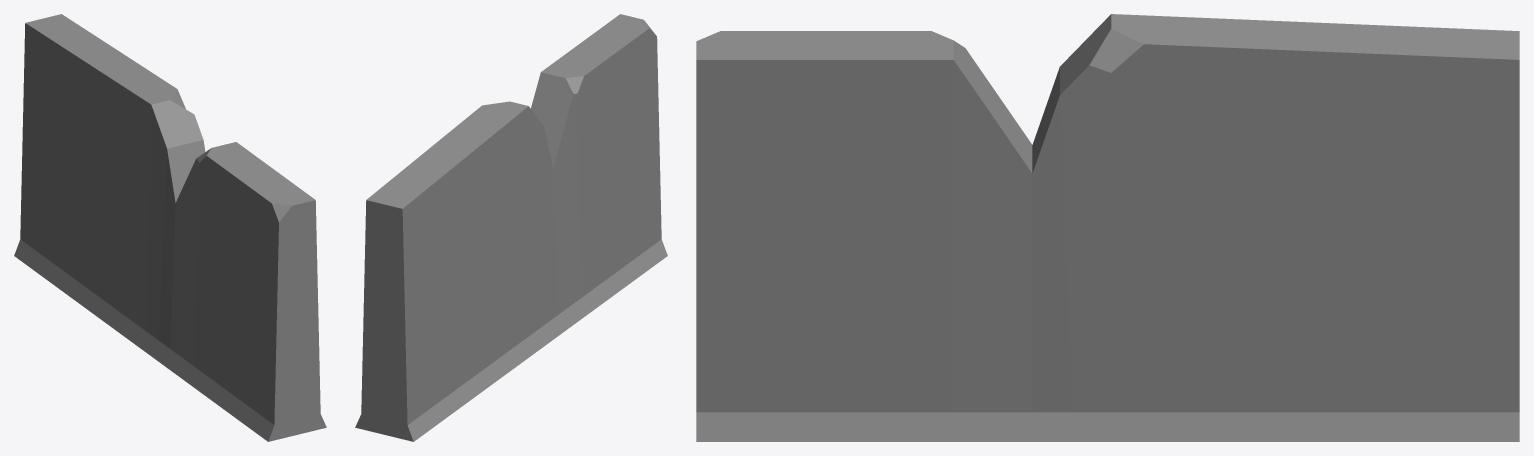
File: RoadPart_05.glb
3 views of the same model, side by side, from view 1: azimuth 30°, elevation 25°; view 2: azimuth 150°, elevation 25°; view 3: azimuth 270°, elevation 25° (orthographic). The views are drawn at different scales.
Visible parts, largest first — view 1: RoadPart_05; view 2: RoadPart_05; view 3: RoadPart_05.
Part boxes in pixels (x1,y1,x2,y2): RoadPart_05: (14,14,326,441); RoadPart_05: (355,14,667,441); RoadPart_05: (696,14,1519,441).
Size of the model in its own units: 0.4 by 1.57 by 3.
Materials: 1 (1 with a texture image).
